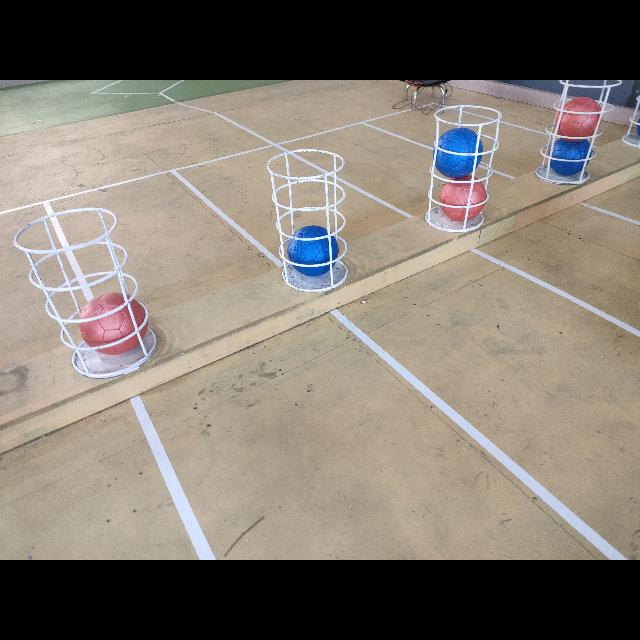B: (288, 226, 342, 278), (432, 127, 482, 177), (549, 137, 593, 175), (636, 115, 640, 139)
R: (81, 292, 149, 353), (440, 176, 488, 224), (557, 97, 601, 141)
